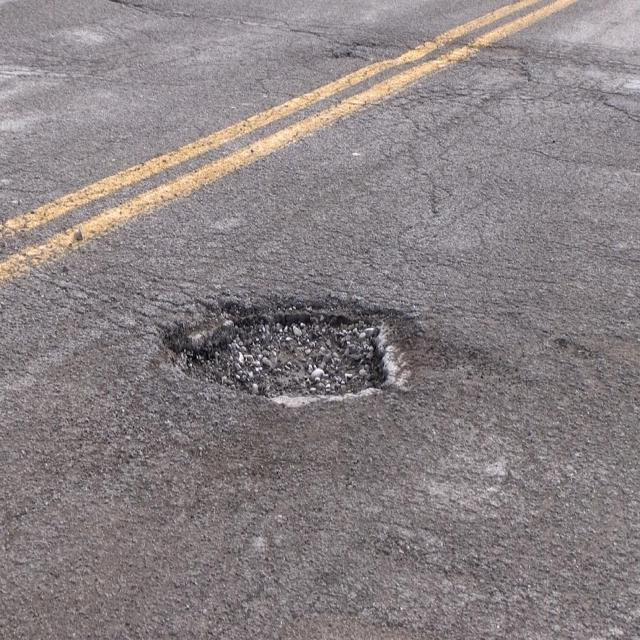Pothole: (157, 297, 412, 407)
